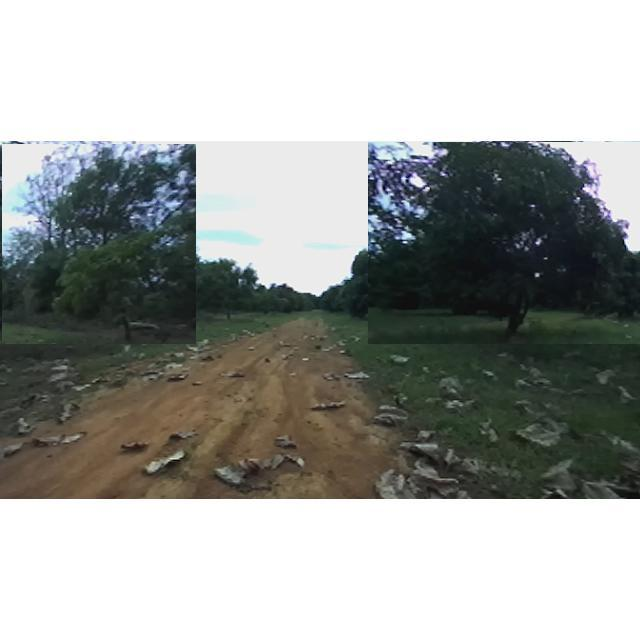direk: (368, 142, 640, 344), (2, 144, 196, 344), (334, 234, 431, 322), (182, 250, 268, 326), (262, 280, 298, 318)
